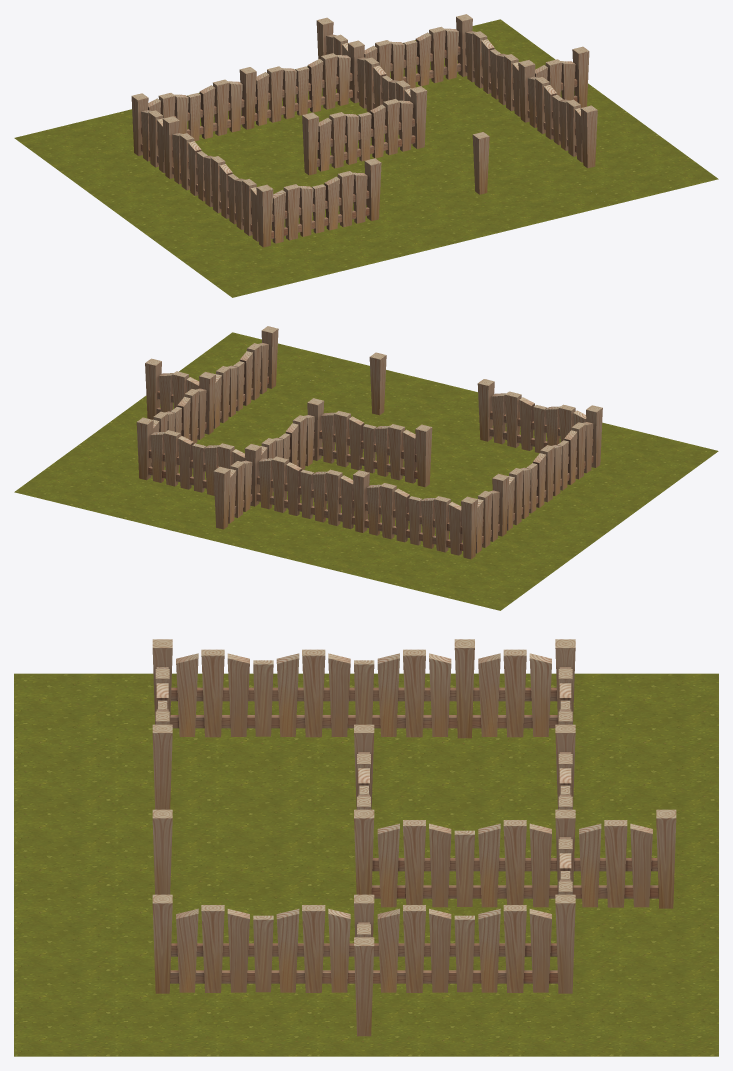
File: low_poly_wood_fence_on_grass.glb
The picture shows the model from 3 angles, top to bottom: view 1: azimuth 30°, elevation 25°; view 2: azimuth 150°, elevation 25°; view 3: azimuth 270°, elevation 25°; orthographic projection. The views are drawn at different scales.
Visible parts, largest first — view 1: Object_2, Object_3; view 2: Object_2, Object_3; view 3: Object_2, Object_3.
Boxes of the visible parts, x1=… form: Object_2: x1=14, y1=19, x2=718, y2=297; Object_3: x1=131, y1=14, x2=597, y2=247; Object_2: x1=14, y1=332, x2=718, y2=610; Object_3: x1=136, y1=326, x2=602, y2=559; Object_2: x1=14, y1=673, x2=718, y2=1056; Object_3: x1=152, y1=639, x2=676, y2=1036.
Bounding box in the file's own units: 450 × 50.83 × 350.
Materials: 2 (2 with a texture image).
